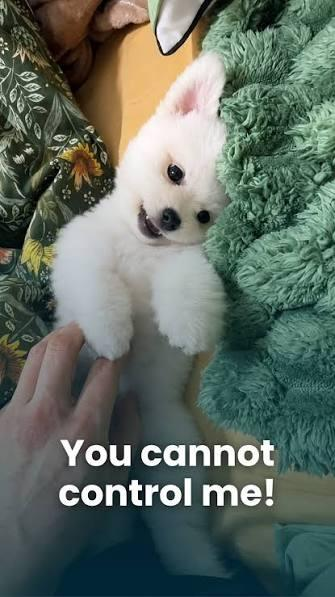puppy-dog: (52, 52, 237, 576)
